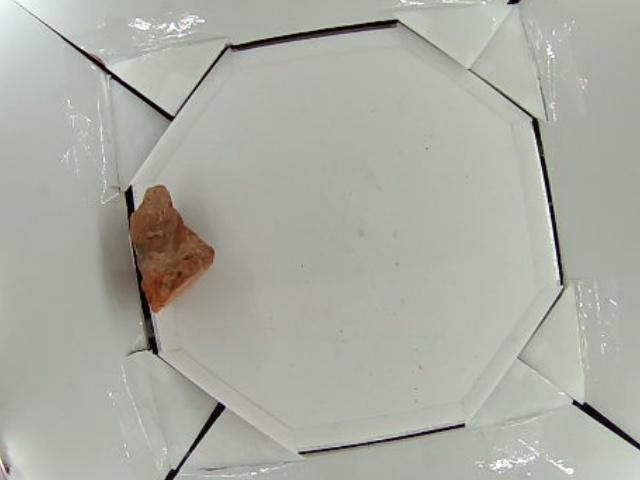Brisk: (128, 184, 212, 311)
